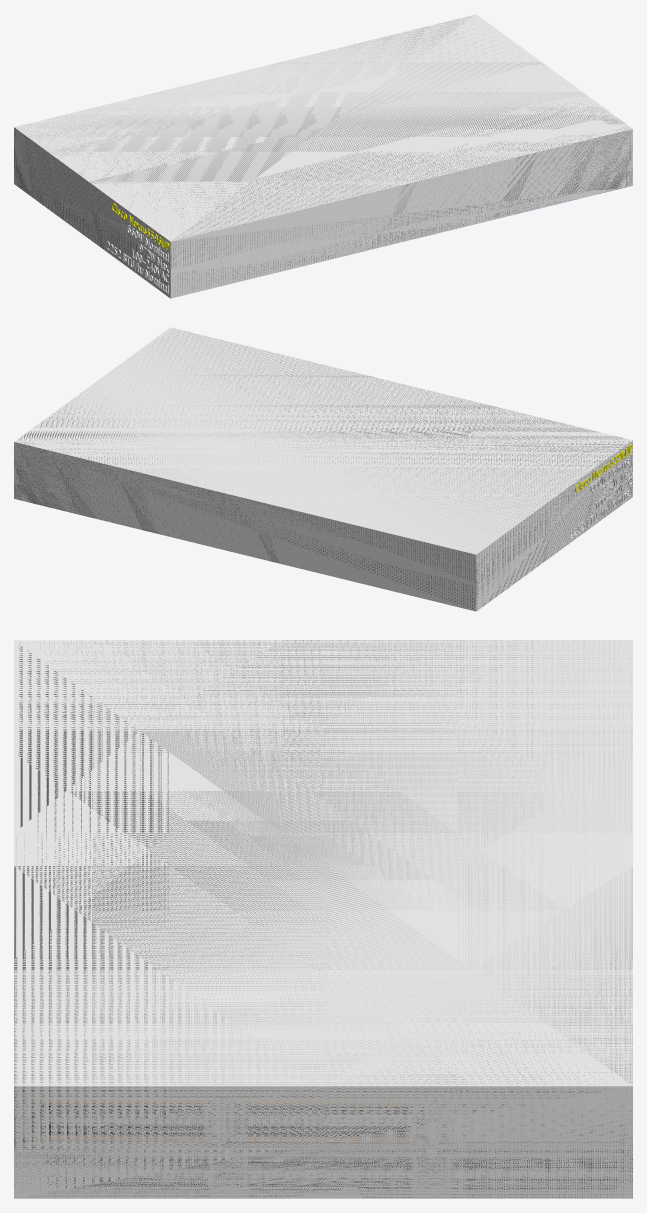
The picture shows the model from 3 angles, top to bottom: view 1: azimuth 30°, elevation 25°; view 2: azimuth 150°, elevation 25°; view 3: azimuth 270°, elevation 25°; orthographic projection. The views are drawn at different scales.
Visible parts, largest first — view 1: Cisco_Nexus_5596UP (×2); view 2: Cisco_Nexus_5596UP (×2); view 3: Cisco_Nexus_5596UP.
Boxes of the visible parts, x1=… form: Cisco_Nexus_5596UP (×2): x1=14, y1=14, x2=632, y2=298; Cisco_Nexus_5596UP (×2): x1=14, y1=327, x2=632, y2=611; Cisco_Nexus_5596UP: x1=14, y1=640, x2=632, y2=1198.
Bounding box in the file's own units: 29.56 × 17.3 × 3.47.
7 materials, 3 textured.
